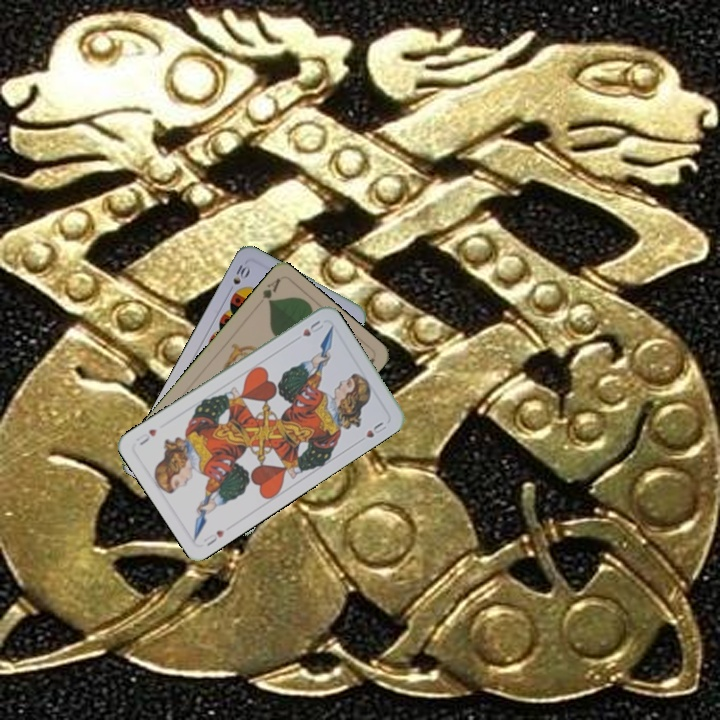GA: (258, 275, 283, 306)
HU: (298, 316, 326, 339), (199, 526, 227, 549)
S10: (224, 260, 253, 296)
